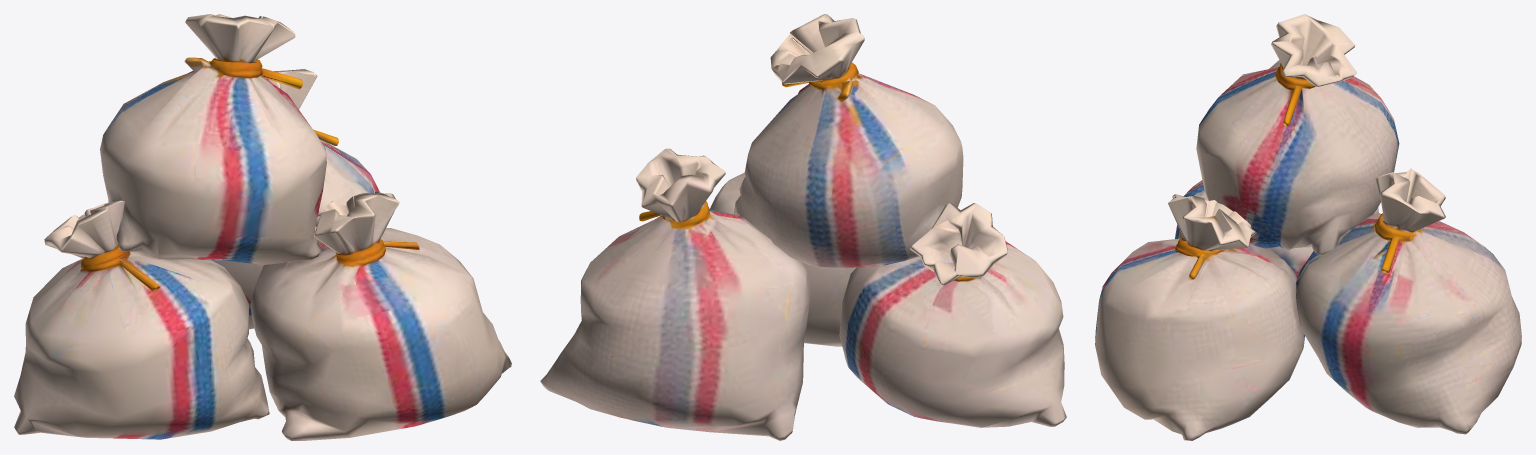
File: obstacle_sacks.glb
3 renders of one model, left to right at view 1: azimuth 30°, elevation 25°; view 2: azimuth 150°, elevation 25°; view 3: azimuth 270°, elevation 25°, orthographic. The views are drawn at different scales.
Size of the model in its own units: 0.9565 by 0.7515 by 0.8912.
1 material, 1 textured.
